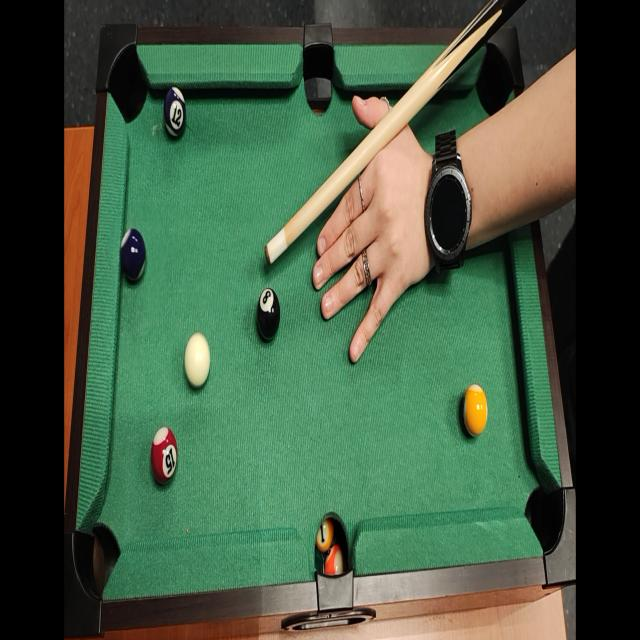cue ball: (183, 333, 212, 390)
other: (117, 226, 149, 288), (254, 286, 284, 346), (462, 378, 491, 440), (160, 80, 188, 142), (151, 425, 178, 486)
